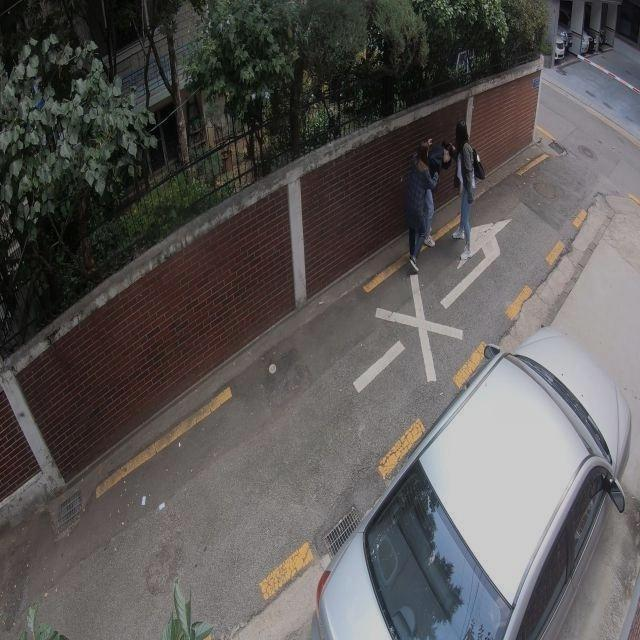fight: (410, 110, 483, 256)
